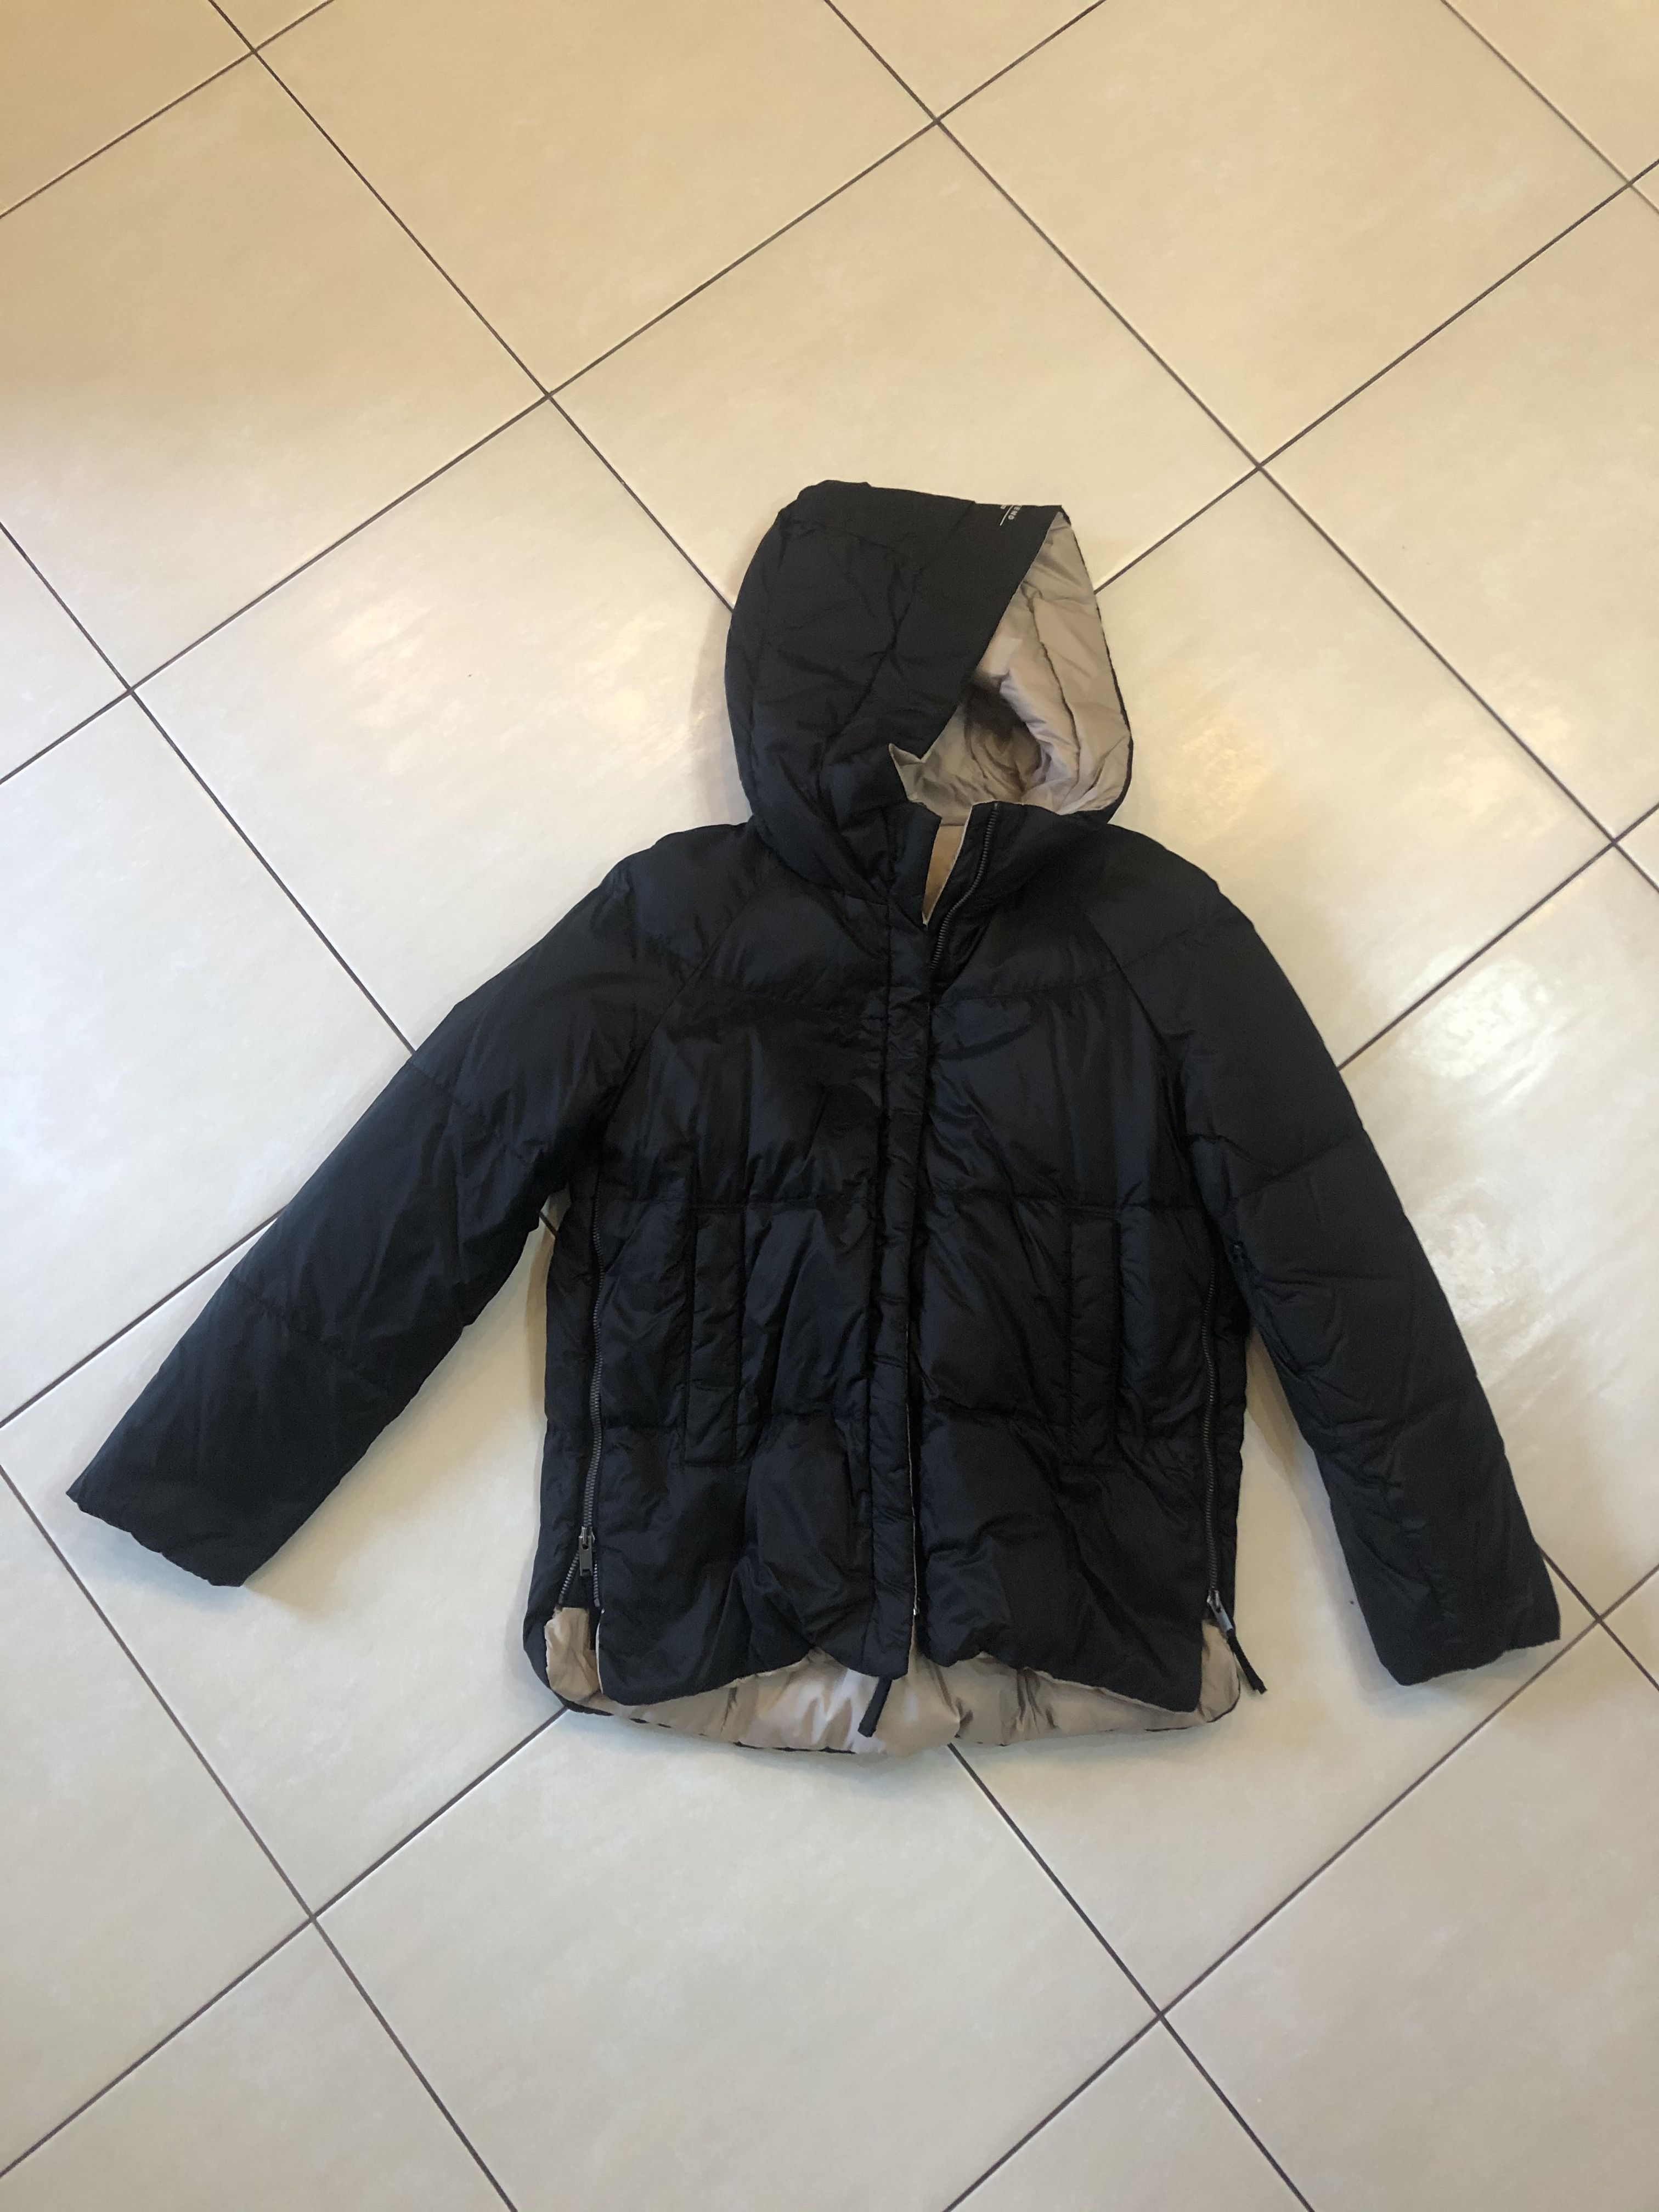clothes: (75, 462, 1575, 1757)
